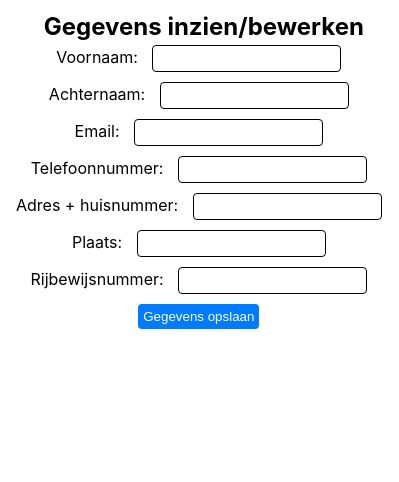
Test: toont foutmelding bij geen adres maar wel plaatsnaam
The image size is (399, 482).
Type "testplaats" into the field labelled "Plaats:" at (231, 244), box [137,230,326,257]
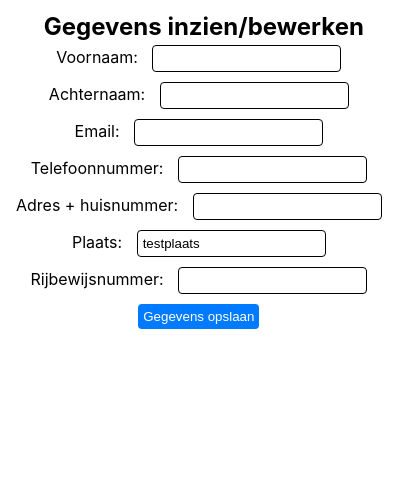
Click the button "Gegevens opslaan" at (199, 316), box [138,304,259,329]
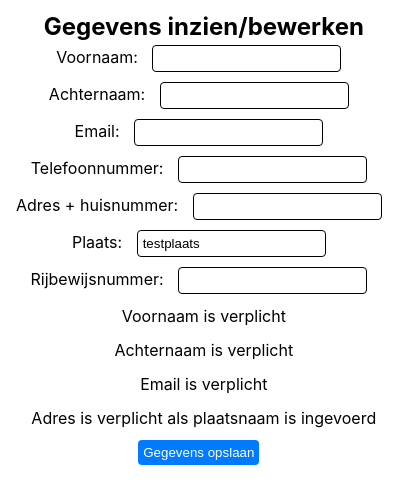
Expected: the text "Adres is verplicht als plaatsnaam is ingevoerd" is shown, [31,406,376,430]
